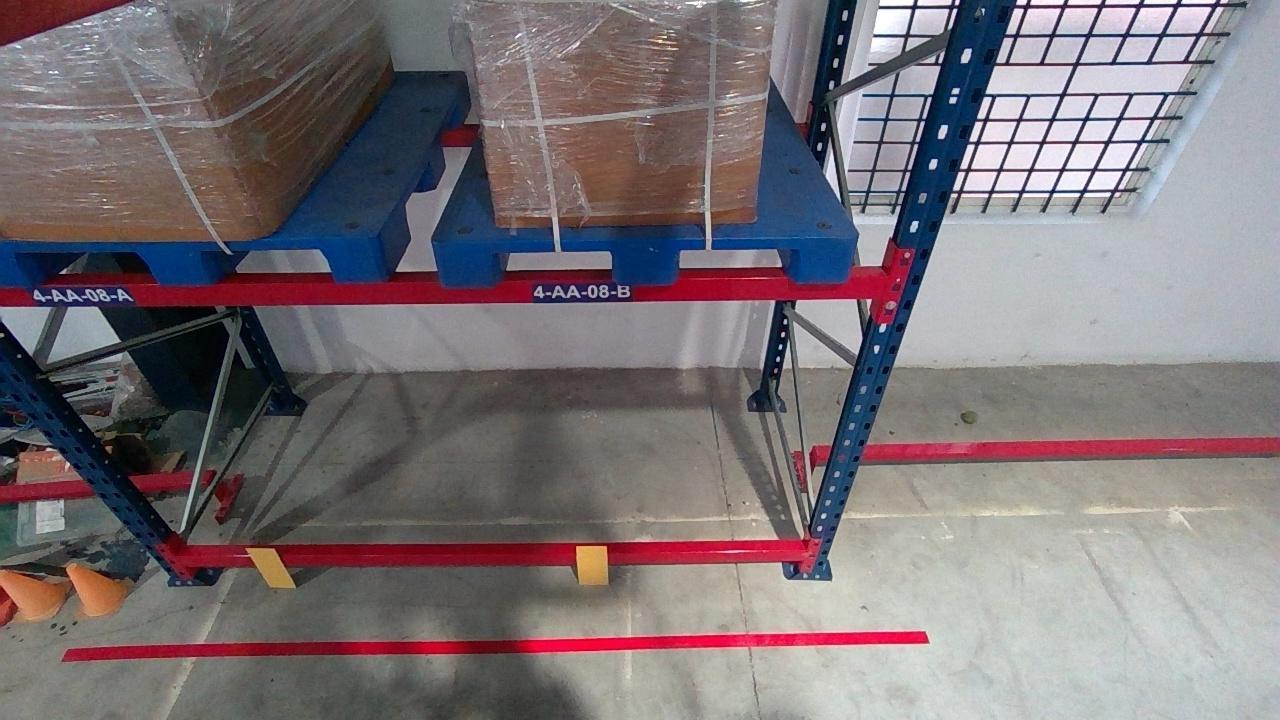h_rack: (5, 274, 890, 306), (174, 548, 807, 567)
orange_strip: (243, 547, 298, 588), (575, 546, 608, 585)
red_line: (60, 630, 931, 656)
small_pallet: (433, 235, 855, 281), (0, 236, 384, 285)
